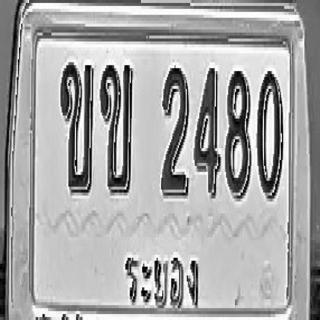A02: (60, 61, 94, 194), (100, 62, 133, 196)
N00: (257, 68, 283, 198)
N02: (161, 65, 189, 195)
N04: (194, 65, 220, 198)
N08: (225, 68, 251, 198)
P53: (120, 236, 203, 311)
